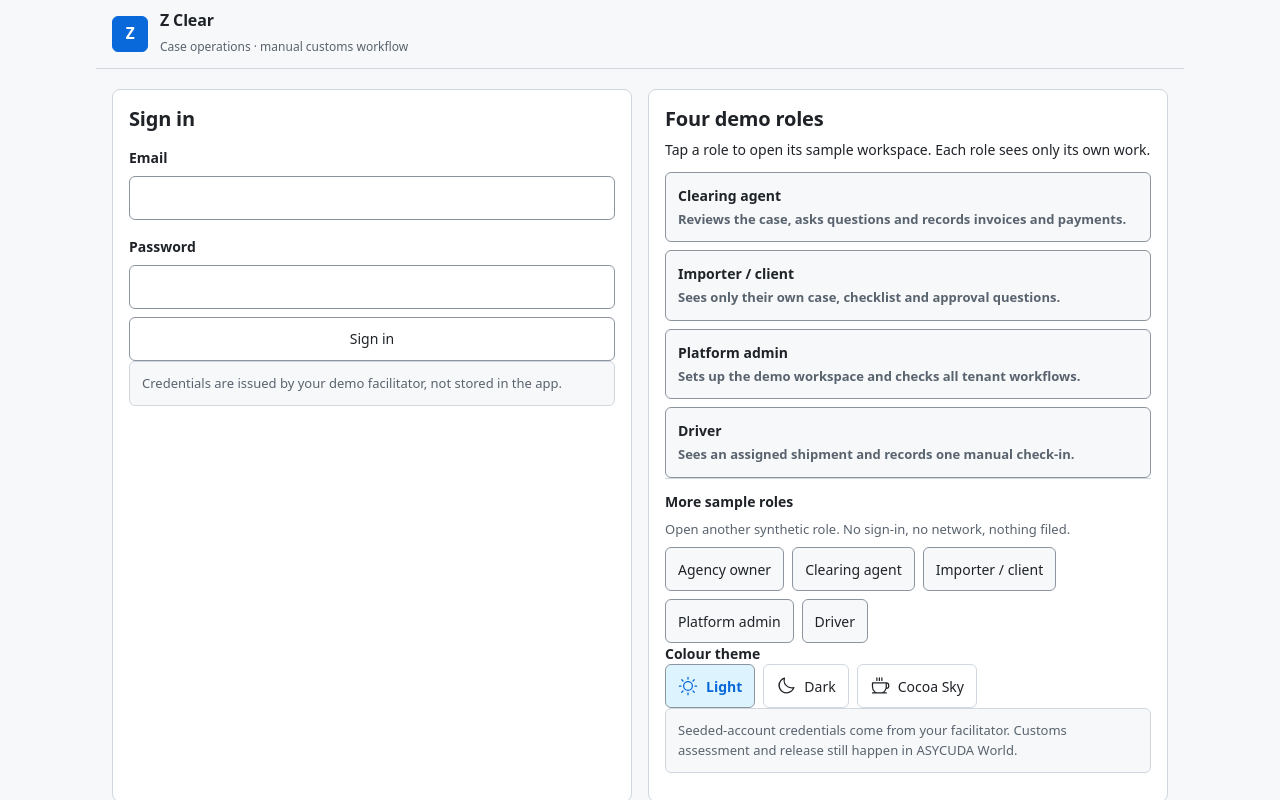
Test: App › shows the signed-in role and the case file from the shipment endpoint
Type "agent@example.com" into the field labelled "Email". click: coordinates (372, 198)
box: [129, 176, 615, 220]
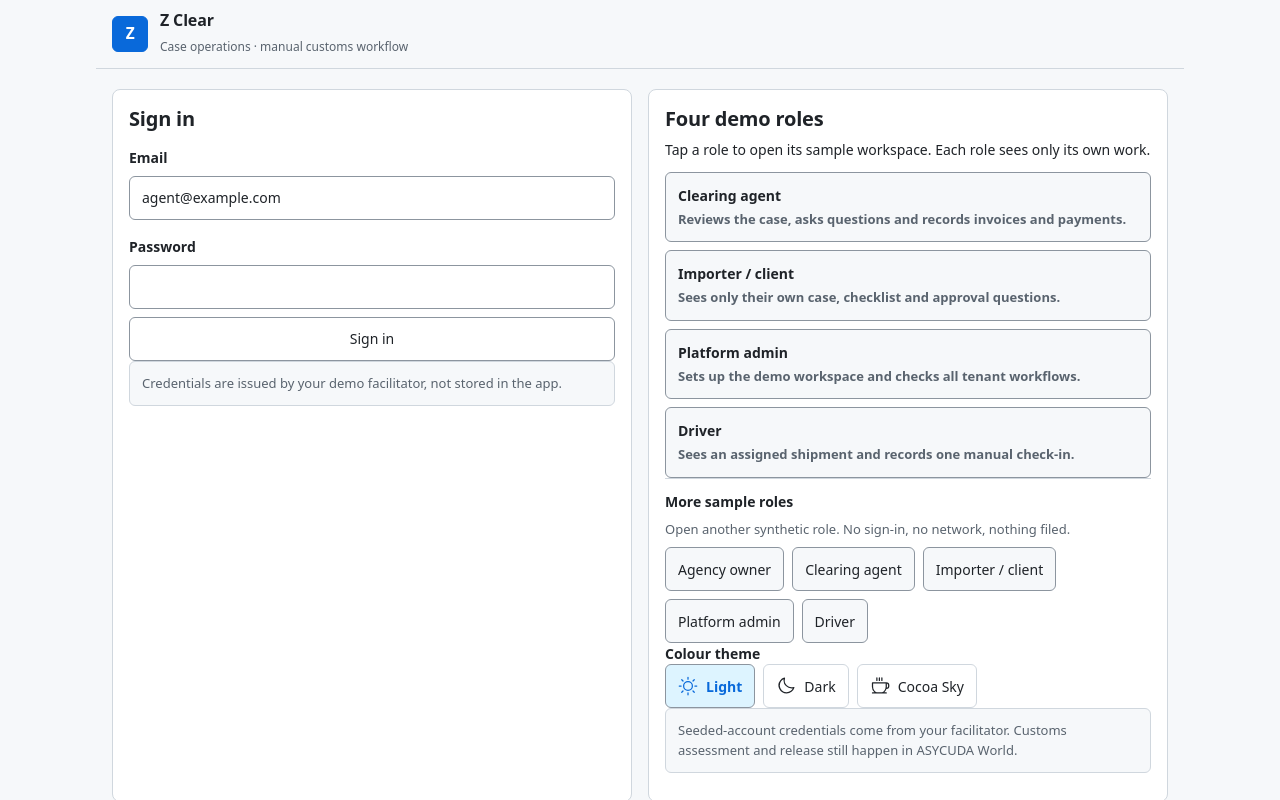
Type "demo-password" into the password field labelled "Password". click: coordinates (372, 287)
box: [129, 265, 615, 309]
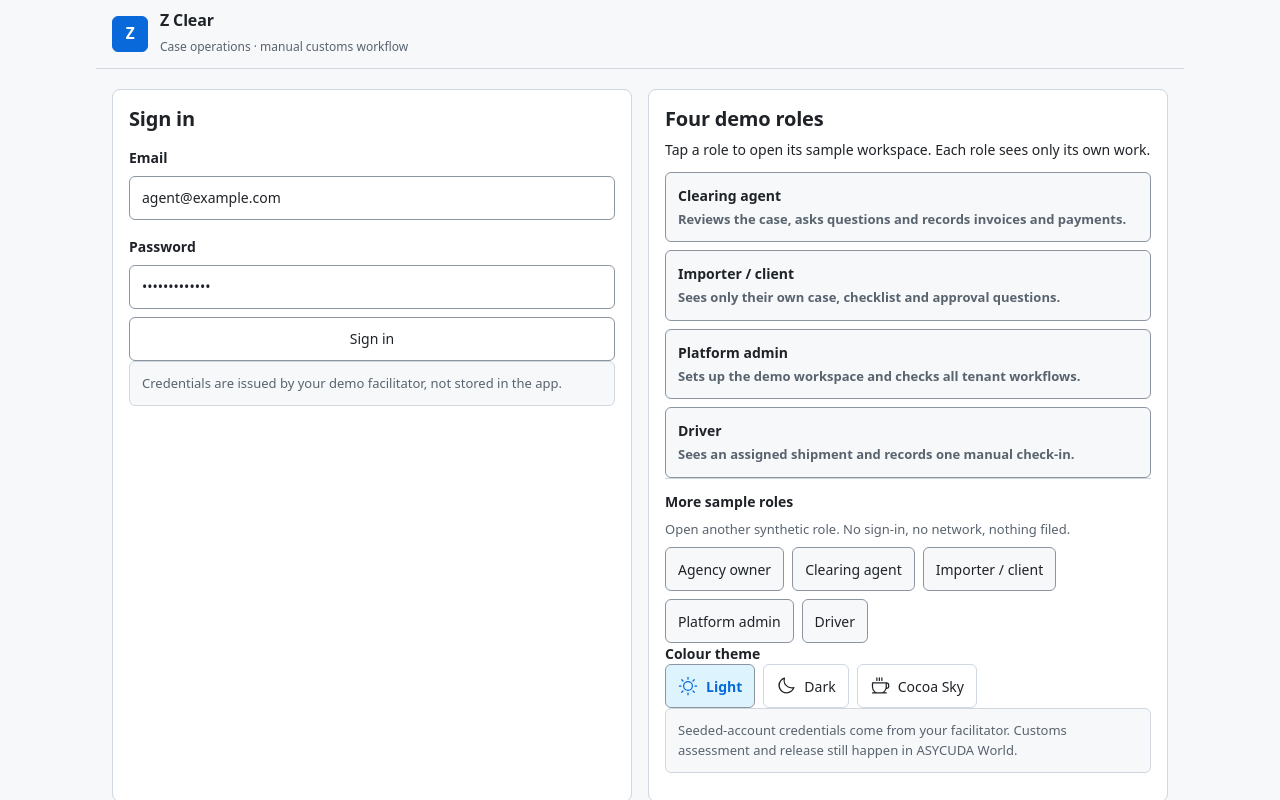
Click the button "Sign in". click: coordinates (372, 339)
box: [129, 317, 615, 361]
(page scrolled)
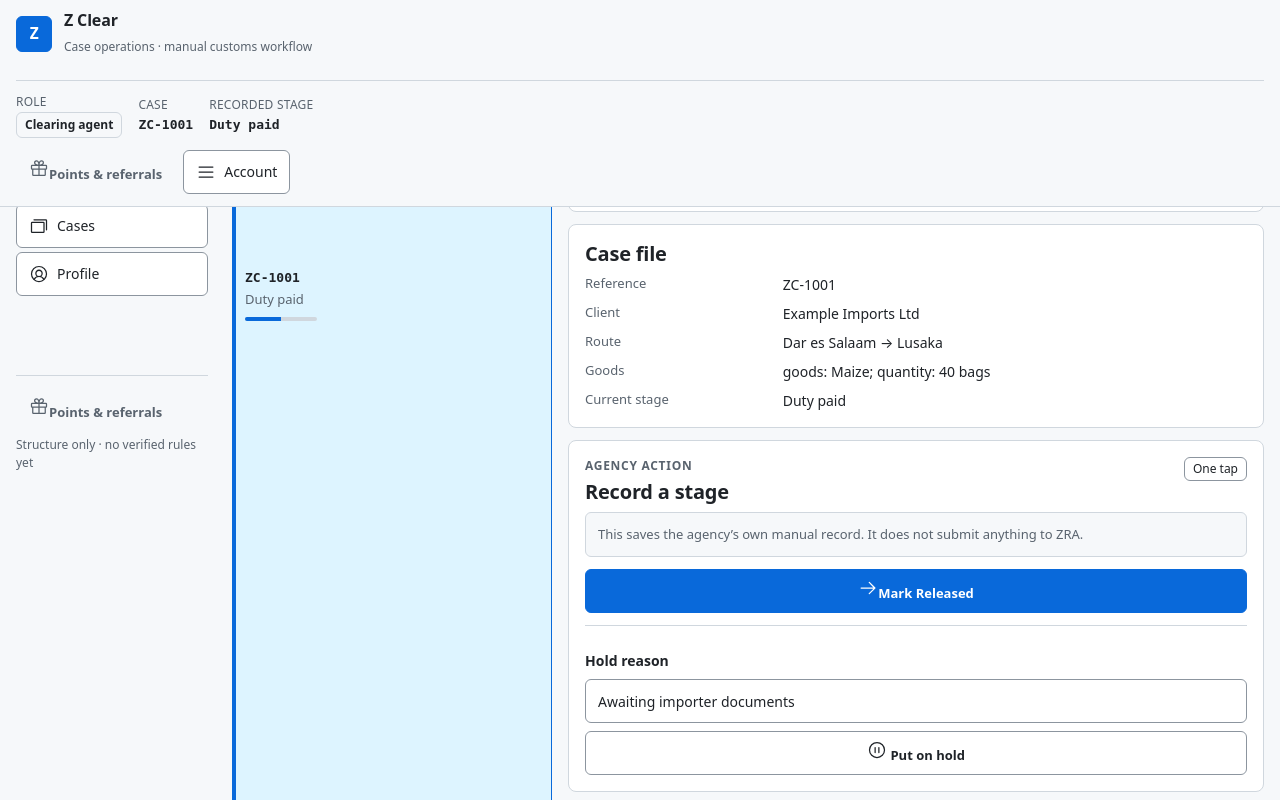
expect the text with test id "case-reference" reads "ZC-1001": met, box [783, 275, 836, 294]
expect the text with test id "case-client" reads "Example Imports Ltd": met, box [783, 304, 920, 323]
expect the text with test id "case-route" reads "Dar es Salaam → Lusaka": met, box [783, 333, 943, 352]
